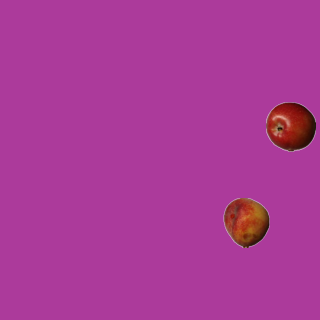Apple Braeburn: (265, 101, 315, 151)
Peach: (221, 197, 271, 247)
